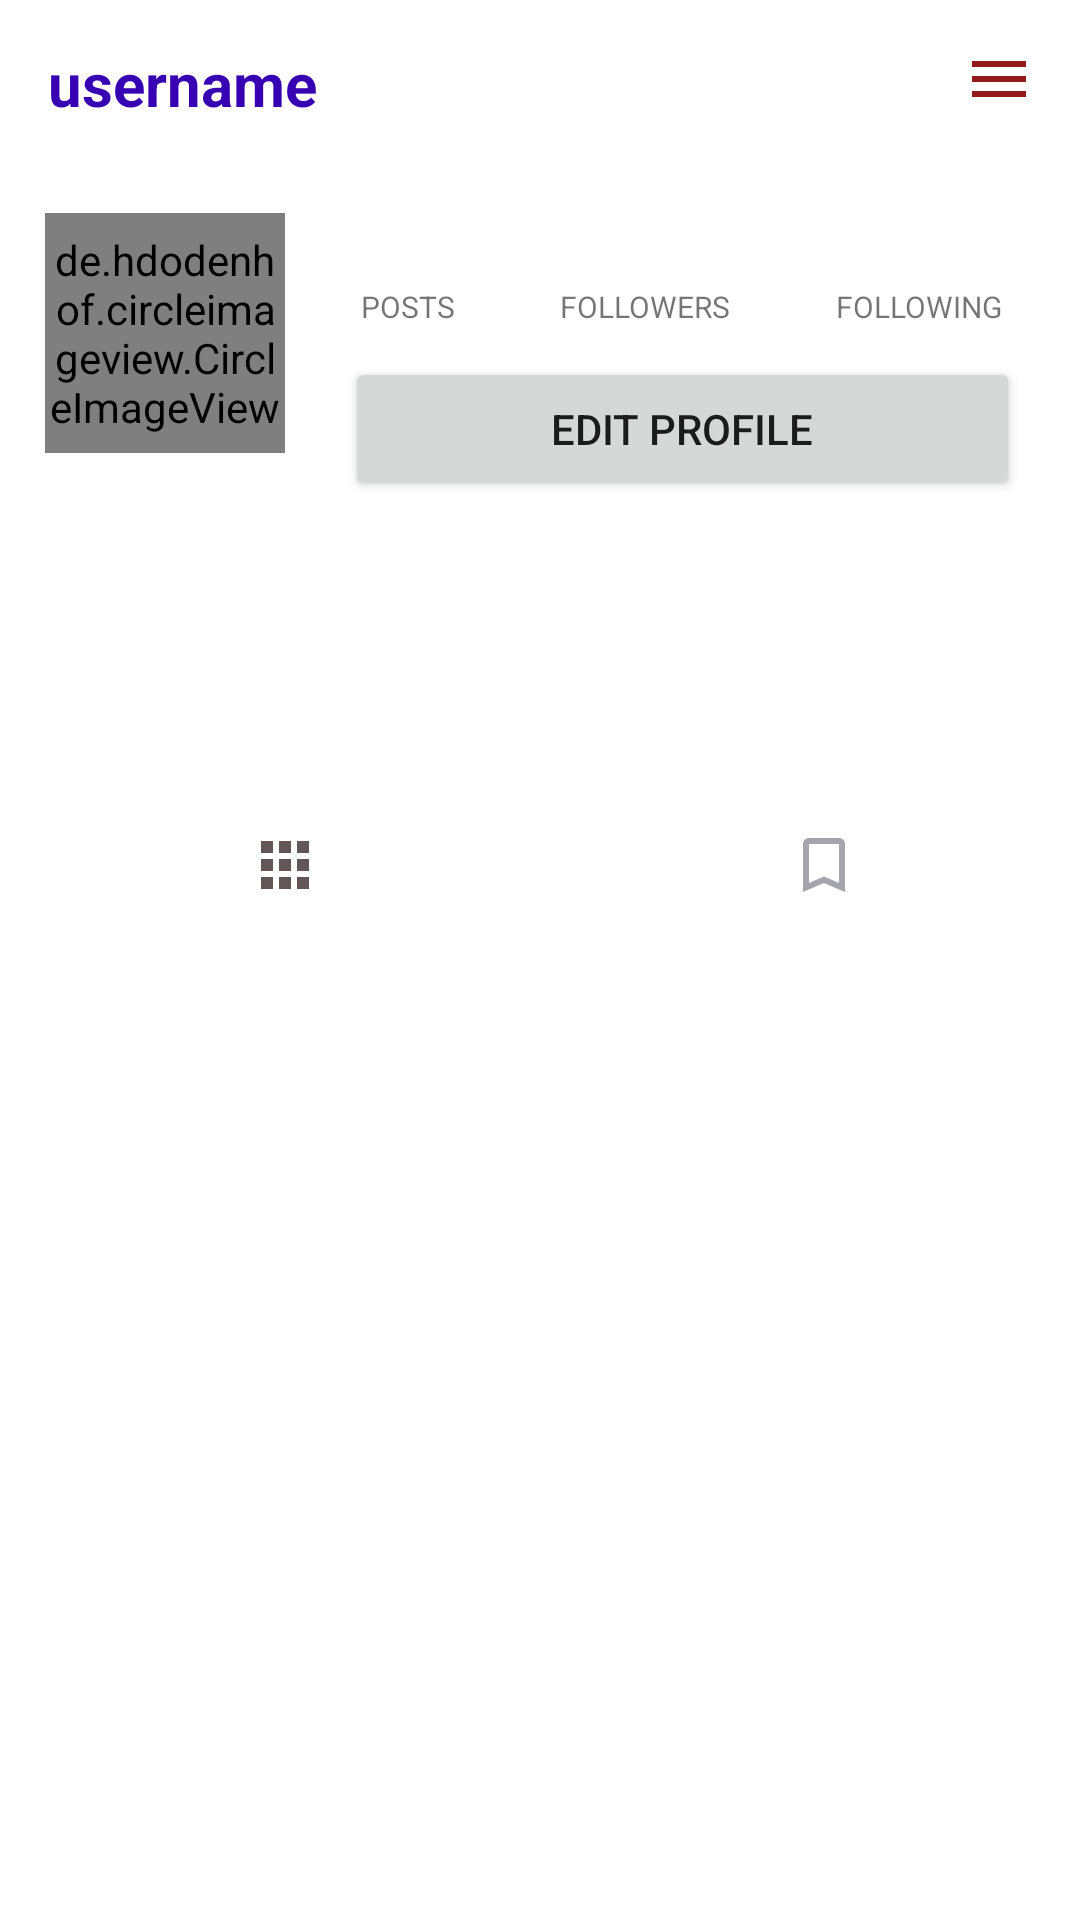

Where to tap for icons on this 1080×1920 app screen, as point (x, y):
apps: point (285, 865)
options: point (999, 79)
save: point (824, 865)
